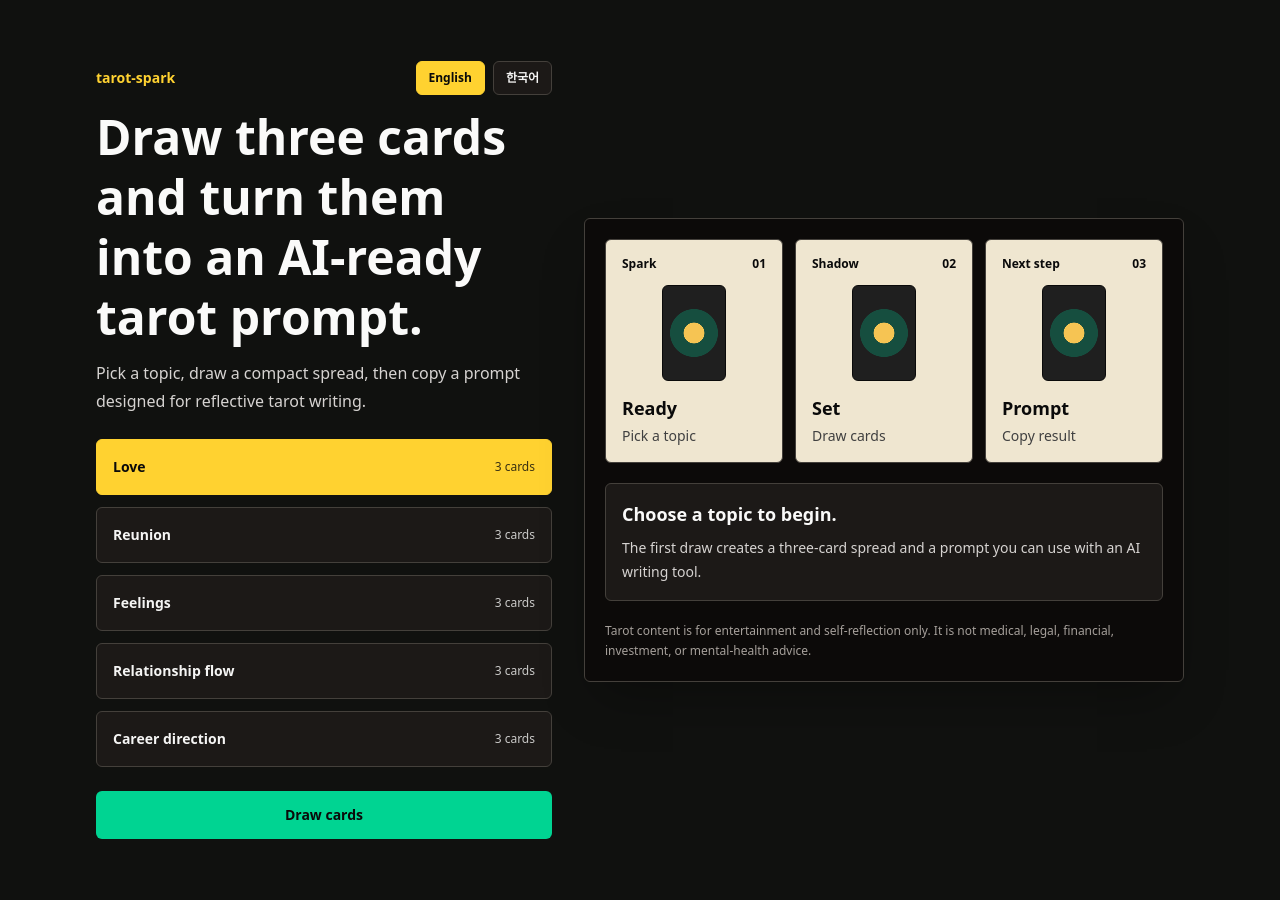
Home › draws cards and generates a copyable prompt
Click the button "Draw cards".
click(324, 815)  # box left=96, top=791, right=552, bottom=839
(page scrolled)
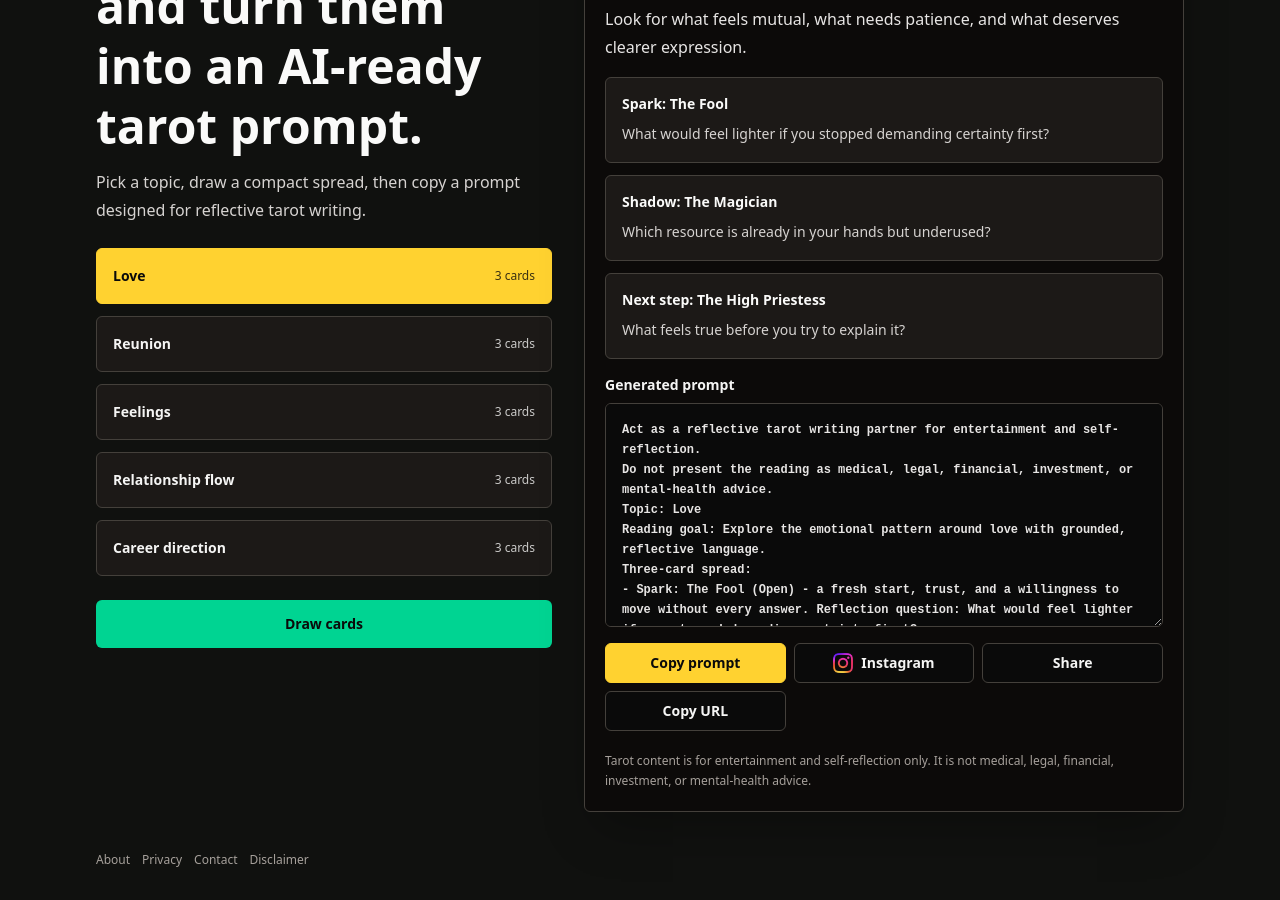
expect the heading "Spark: The Fool" is shown: met, box left=622, top=94, right=728, bottom=113
expect the heading "Shadow: The Magician" is shown: met, box left=622, top=192, right=777, bottom=211
expect the heading "Next step: The High Priestess" is shown: met, box left=622, top=290, right=826, bottom=309
